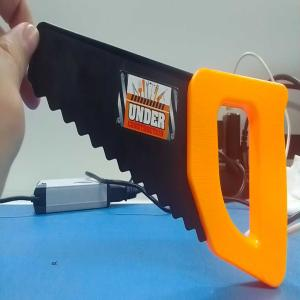serrote: (40, 22, 289, 288)
